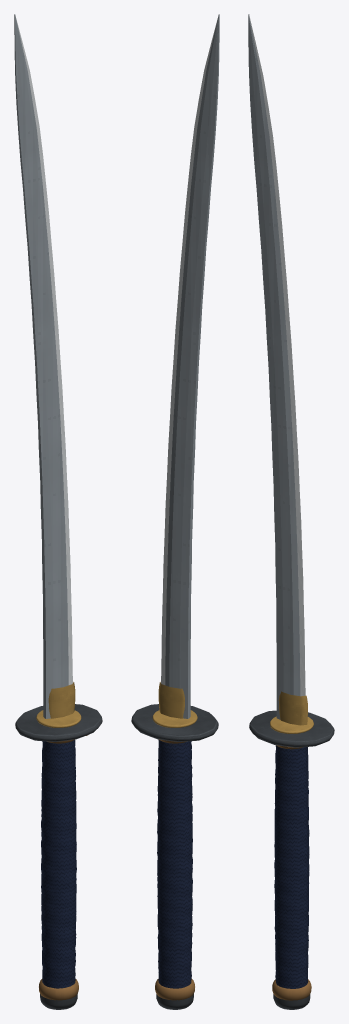
File: katana.lod1.glb
3 renders of one model, left to right at view 1: azimuth 30°, elevation 25°; view 2: azimuth 150°, elevation 25°; view 3: azimuth 330°, elevation 25°, orthographic. The views are drawn at different scales.
Visible parts, largest first — view 1: steel / forged blade steel, cord / waxed silk cord wrap, edge / honed bright bevel, darksteel / oil-blackened fittings, brass / polished brass furniture, bronze / cast bronze with patina; view 2: steel / forged blade steel, cord / waxed silk cord wrap, edge / honed bright bevel, darksteel / oil-blackened fittings, brass / polished brass furniture, bronze / cast bronze with patina; view 3: steel / forged blade steel, cord / waxed silk cord wrap, edge / honed bright bevel, darksteel / oil-blackened fittings, brass / polished brass furniture, bronze / cast bronze with patina.
Boxes of the visible parts, bbox=[...] form: steel / forged blade steel: bbox=[14, 14, 68, 718]; cord / waxed silk cord wrap: bbox=[41, 740, 76, 988]; edge / honed bright bevel: bbox=[16, 18, 72, 684]; darksteel / oil-blackened fittings: bbox=[15, 704, 102, 1009]; brass / polished brass furniture: bbox=[36, 682, 81, 727]; bronze / cast bronze with patina: bbox=[39, 739, 78, 1000]; steel / forged blade steel: bbox=[165, 14, 219, 718]; cord / waxed silk cord wrap: bbox=[157, 739, 192, 988]; edge / honed bright bevel: bbox=[161, 19, 217, 684]; darksteel / oil-blackened fittings: bbox=[131, 704, 218, 1009]; brass / polished brass furniture: bbox=[152, 682, 197, 727]; bronze / cast bronze with patina: bbox=[155, 739, 194, 1000]; steel / forged blade steel: bbox=[248, 14, 300, 719]; cord / waxed silk cord wrap: bbox=[274, 745, 309, 988]; edge / honed bright bevel: bbox=[249, 15, 305, 696]; darksteel / oil-blackened fittings: bbox=[249, 710, 334, 1009]; brass / polished brass furniture: bbox=[270, 691, 313, 733]; bronze / cast bronze with patina: bbox=[272, 745, 311, 1000].
Bounding box in the file's own units: 0.0889 × 1.01 × 0.0689.
7 materials, 6 textured.
